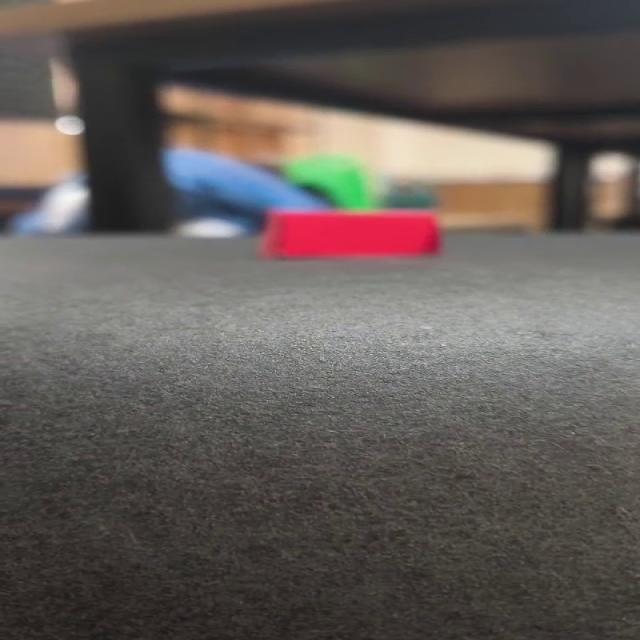red block: (258, 207, 442, 259)
